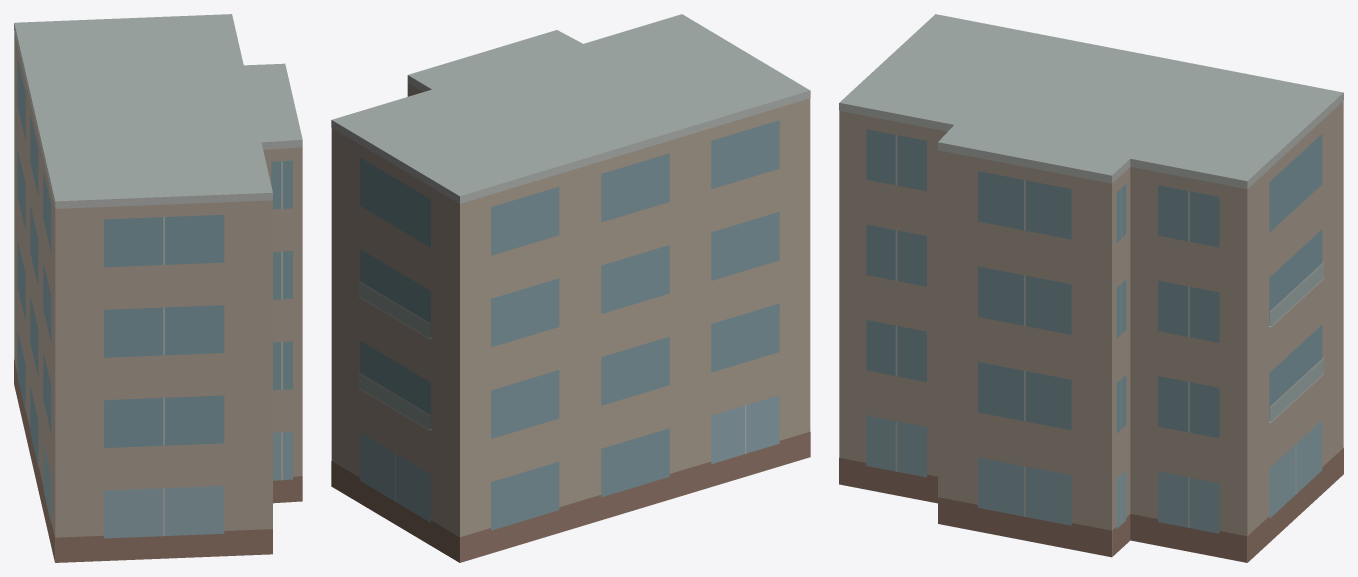
The model's file is survey-upis-33011925.glb.
3 renders of one model, left to right at view 1: azimuth 30°, elevation 25°; view 2: azimuth 150°, elevation 25°; view 3: azimuth 270°, elevation 25°, orthographic. The views are drawn at different scales.
Parts seen in each view (by area): view 1: survey-upis-33011925.tmp; view 2: survey-upis-33011925.tmp; view 3: survey-upis-33011925.tmp.
Part boxes in pixels (<box>): survey-upis-33011925.tmp: <box>14,14,302,562</box>; survey-upis-33011925.tmp: <box>331,14,810,562</box>; survey-upis-33011925.tmp: <box>839,14,1343,562</box>.
Bounding box in the file's own units: 10.91 × 11.6 × 13.91.
